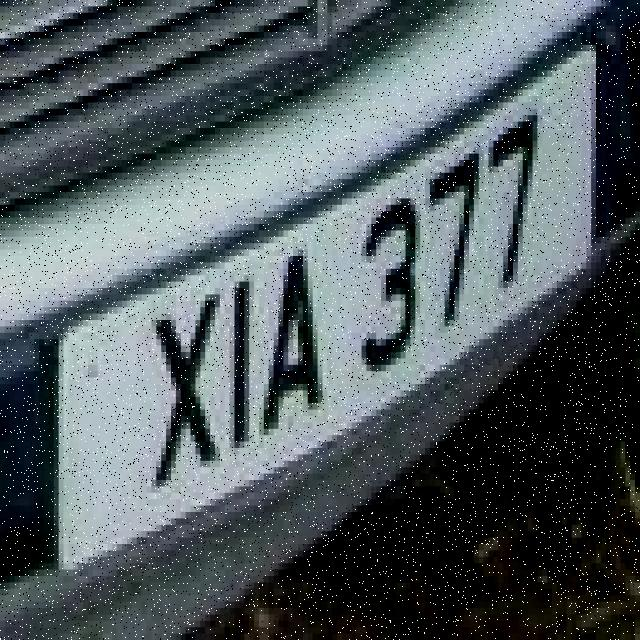licenseplate: (24, 19, 620, 586)
